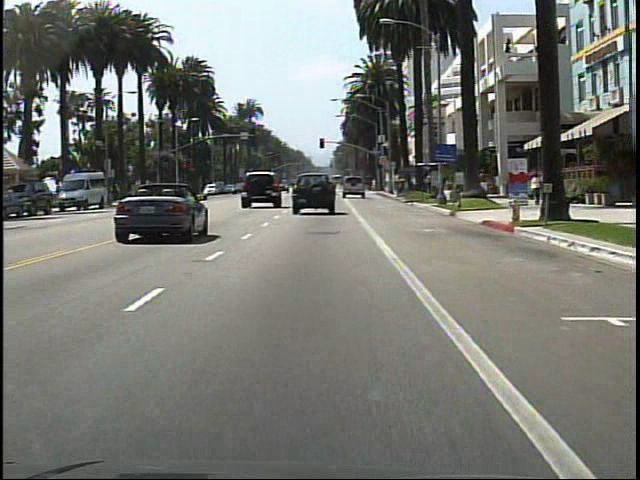person: (527, 170, 544, 210)
